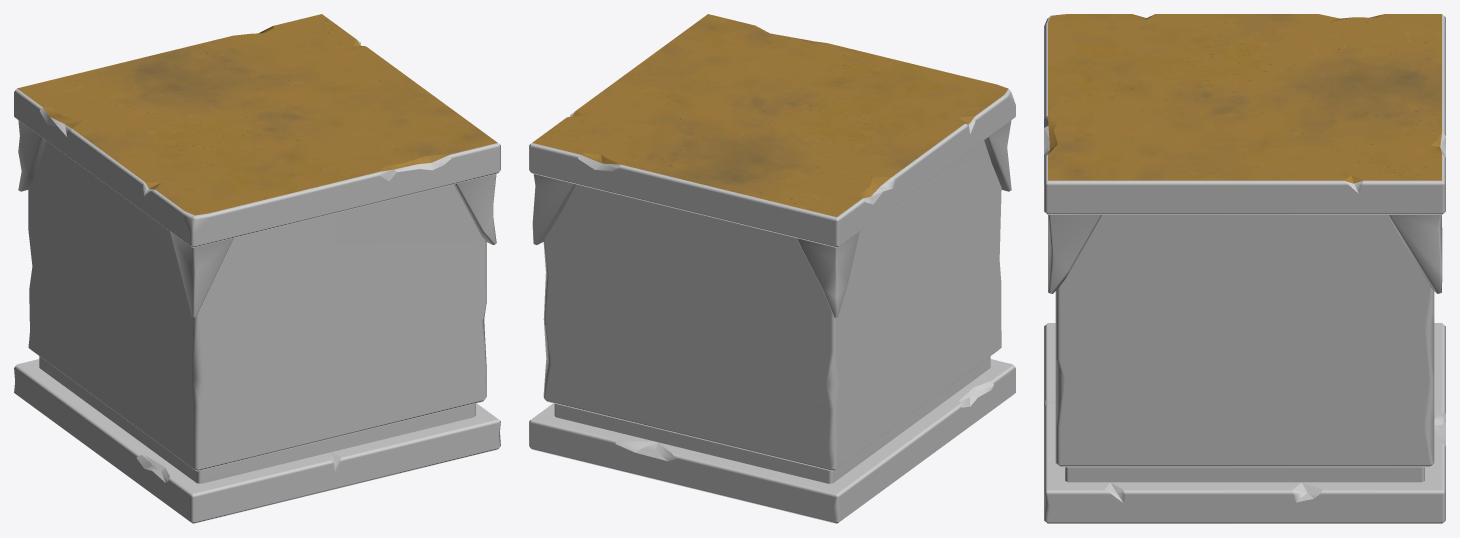
3 views of the same model, side by side, from view 1: azimuth 30°, elevation 25°; view 2: azimuth 150°, elevation 25°; view 3: azimuth 270°, elevation 25° (orthographic). The views are drawn at different scales.
Visible parts, largest first — view 1: SM_Vault_2m_Column_01_LOD0; view 2: SM_Vault_2m_Column_01_LOD0; view 3: SM_Vault_2m_Column_01_LOD0.
Boxes of the visible parts, bbox=[...] form: SM_Vault_2m_Column_01_LOD0: bbox=[14, 14, 500, 523]; SM_Vault_2m_Column_01_LOD0: bbox=[529, 14, 1015, 523]; SM_Vault_2m_Column_01_LOD0: bbox=[1044, 14, 1445, 523].
Bounding box in the file's own units: 2.12 × 2 × 2.12.
